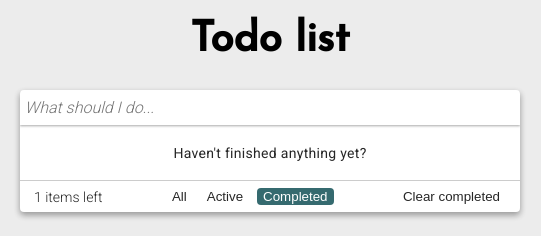
Scenario: Adding todos › Add second element
In the field: (270, 108) [20,90,520,125], type "ooo"
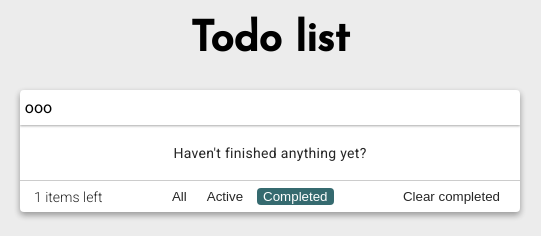
Press Ctrl in the field, box [20,90,520,125]
Press Enter in the field, box [20,90,520,125]
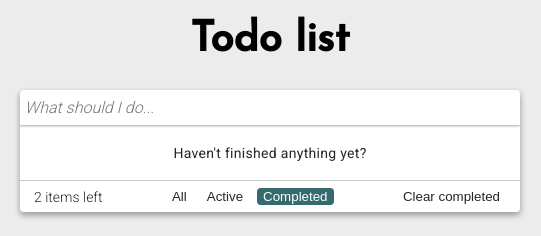
Expected: the field is empty, [20,90,520,125]
Expected: the text "2 items left" is shown, [34,189,102,205]
